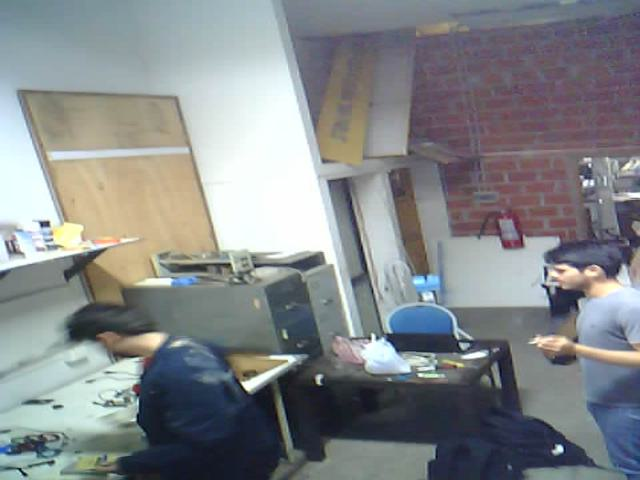person: (43, 287, 297, 480), (521, 214, 640, 477)
